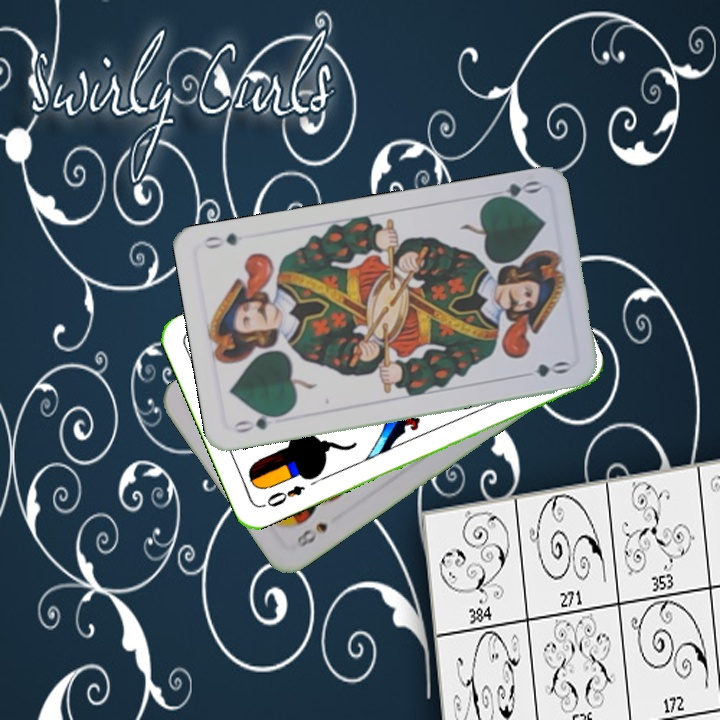EO: (258, 481, 308, 511)
GO: (484, 176, 543, 205), (230, 409, 287, 436)
S8: (292, 518, 331, 550)
